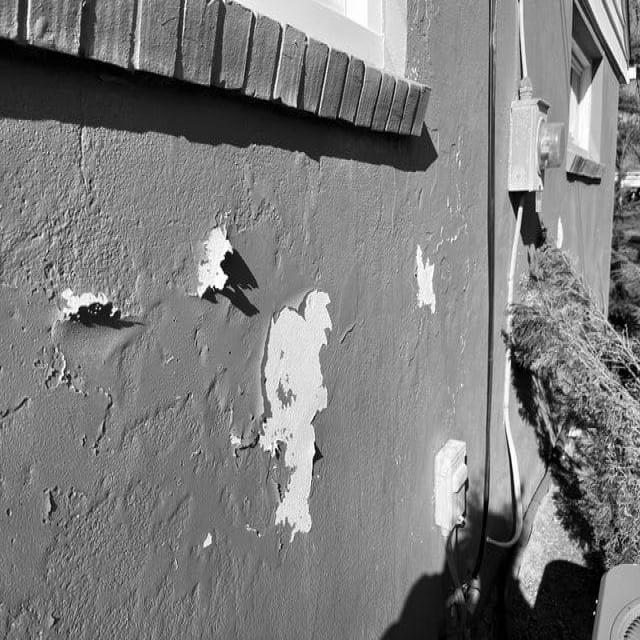peeling paint: (0, 183, 346, 640), (404, 98, 480, 427), (544, 202, 585, 260)
